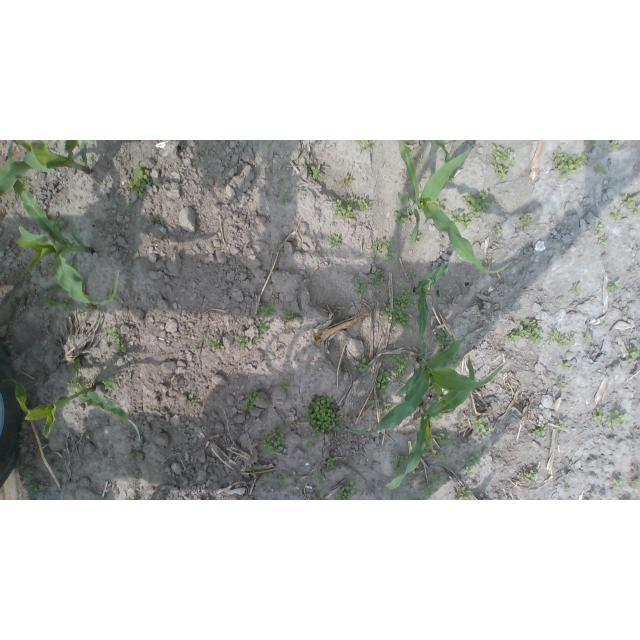Maize: (396, 140, 513, 274), (8, 176, 122, 309), (347, 322, 472, 438), (386, 353, 475, 489), (6, 357, 142, 444), (1, 140, 92, 196), (413, 261, 449, 344), (421, 140, 451, 164)
Weeds: (302, 393, 341, 439), (552, 146, 588, 178), (392, 289, 419, 329), (263, 423, 288, 457), (128, 163, 153, 197), (462, 191, 490, 218), (332, 192, 357, 220), (389, 353, 411, 383), (519, 319, 543, 345), (547, 329, 575, 348), (106, 329, 126, 355), (472, 418, 495, 440), (490, 143, 514, 162), (243, 387, 260, 413), (372, 239, 392, 261), (337, 480, 358, 500), (622, 193, 640, 215), (375, 368, 391, 392), (451, 211, 471, 229), (367, 268, 385, 287), (437, 330, 454, 350), (393, 208, 411, 225), (463, 452, 481, 468), (208, 334, 224, 352), (609, 409, 624, 428), (307, 164, 323, 181), (492, 166, 508, 183), (257, 302, 276, 316), (354, 140, 376, 152), (436, 431, 453, 446), (625, 345, 640, 361), (380, 303, 394, 320), (49, 219, 66, 233), (235, 332, 249, 349), (561, 473, 573, 492), (453, 488, 472, 500), (358, 197, 373, 212), (521, 468, 539, 480), (355, 358, 369, 373), (104, 375, 117, 391), (392, 452, 409, 464), (328, 235, 342, 249), (256, 319, 270, 333), (592, 408, 604, 424), (355, 279, 368, 293), (448, 356, 462, 369), (282, 308, 294, 323), (421, 484, 436, 496), (382, 398, 392, 415), (42, 258, 54, 272), (519, 214, 533, 226), (60, 299, 75, 310), (535, 424, 548, 436), (598, 234, 610, 247), (393, 465, 406, 477), (369, 396, 381, 408), (431, 472, 443, 484), (506, 331, 519, 342), (45, 294, 56, 306), (611, 479, 623, 490), (606, 283, 618, 294), (609, 209, 621, 220), (596, 164, 608, 175), (557, 420, 568, 431), (341, 175, 352, 186), (29, 482, 40, 493), (571, 285, 582, 296), (435, 200, 445, 212), (327, 456, 336, 469), (280, 380, 289, 393), (407, 268, 416, 280), (594, 222, 604, 232), (279, 475, 289, 485), (313, 492, 325, 500), (78, 381, 90, 389), (588, 491, 597, 500), (560, 361, 569, 370), (280, 196, 289, 205), (316, 476, 325, 485), (611, 140, 620, 149), (52, 284, 62, 292), (79, 308, 89, 316), (632, 479, 640, 489), (245, 465, 256, 472), (586, 141, 597, 148), (557, 380, 566, 388), (584, 336, 593, 344), (304, 440, 312, 449), (87, 155, 96, 163), (494, 226, 503, 234), (189, 394, 196, 404), (432, 397, 442, 404), (628, 268, 636, 276), (276, 176, 284, 184), (448, 174, 455, 183), (255, 334, 264, 341), (434, 414, 443, 421), (443, 452, 450, 460), (127, 453, 135, 460), (41, 372, 48, 380), (191, 346, 199, 353), (414, 235, 421, 243), (20, 180, 30, 185), (465, 469, 472, 476), (296, 186, 304, 192), (67, 382, 72, 391), (509, 159, 516, 165), (180, 332, 188, 337), (635, 292, 640, 300), (622, 308, 627, 315), (130, 495, 137, 500), (600, 322, 606, 327), (253, 340, 258, 344), (388, 320, 392, 324)
